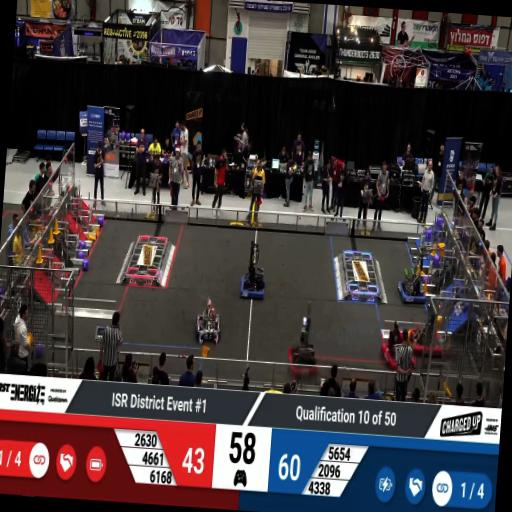robot: (284, 337, 322, 381), (412, 312, 446, 358), (192, 301, 226, 347), (396, 264, 430, 306), (381, 327, 415, 368), (240, 259, 268, 303)
